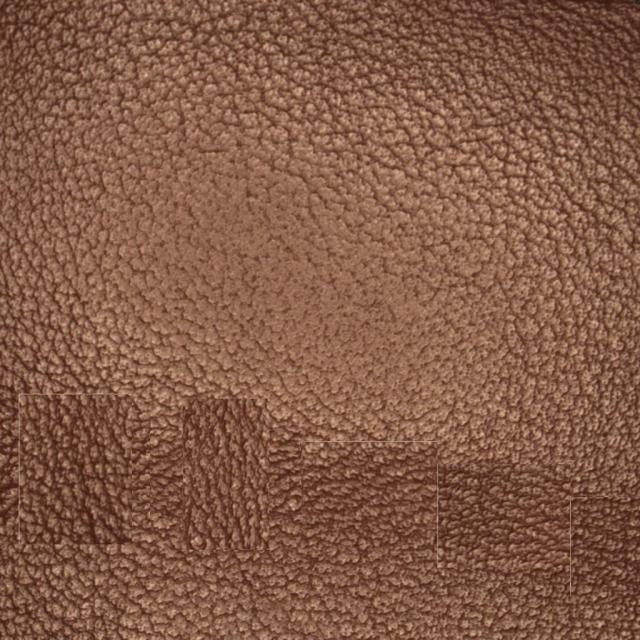Healed Injury: (38, 375, 277, 579), (371, 429, 610, 592)
